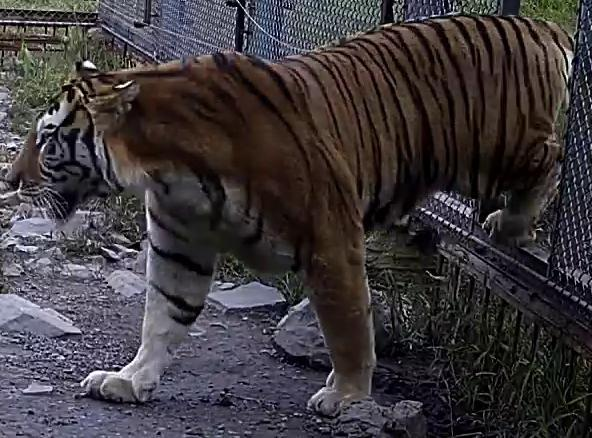tiger: (6, 15, 572, 416)
